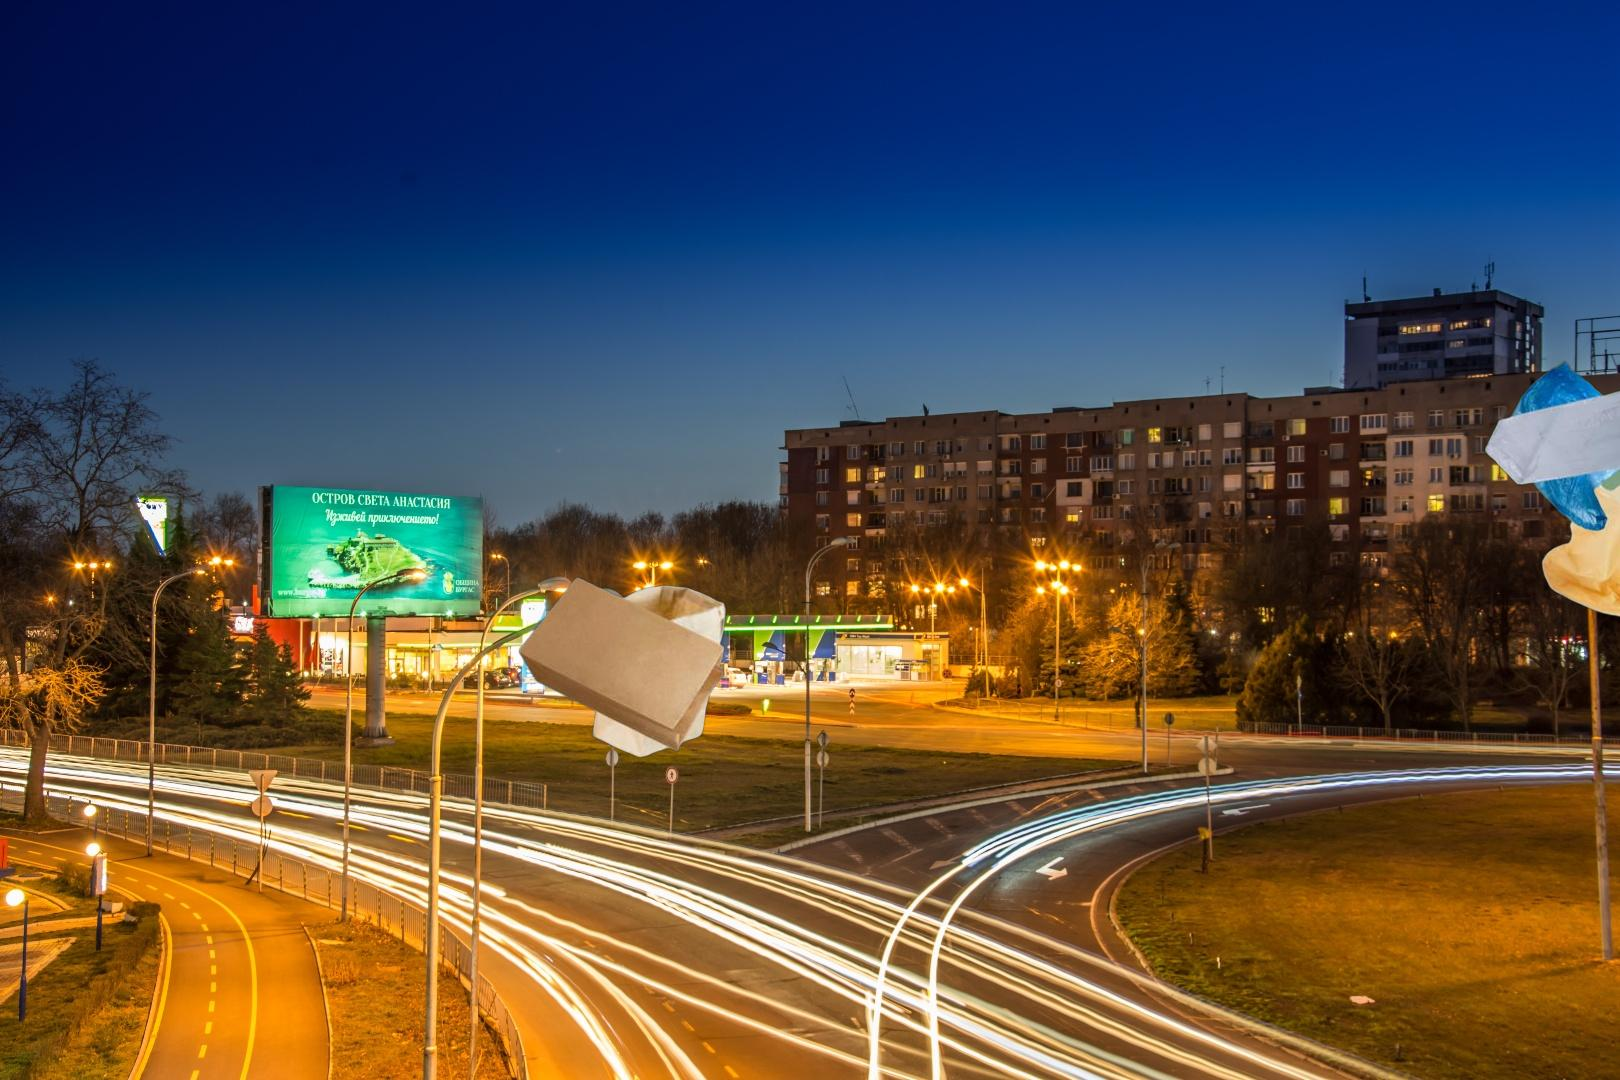paper-bag: (516, 576, 728, 759)
plastic-bag: (1483, 356, 1620, 621)
